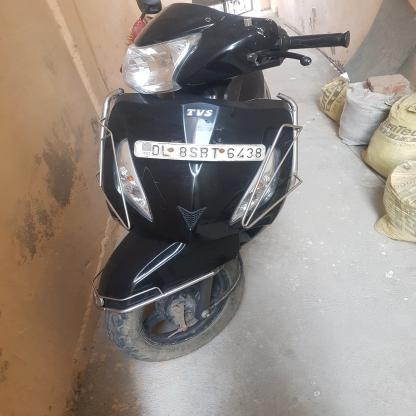Number_Plate_Detected: (134, 138, 268, 164)
